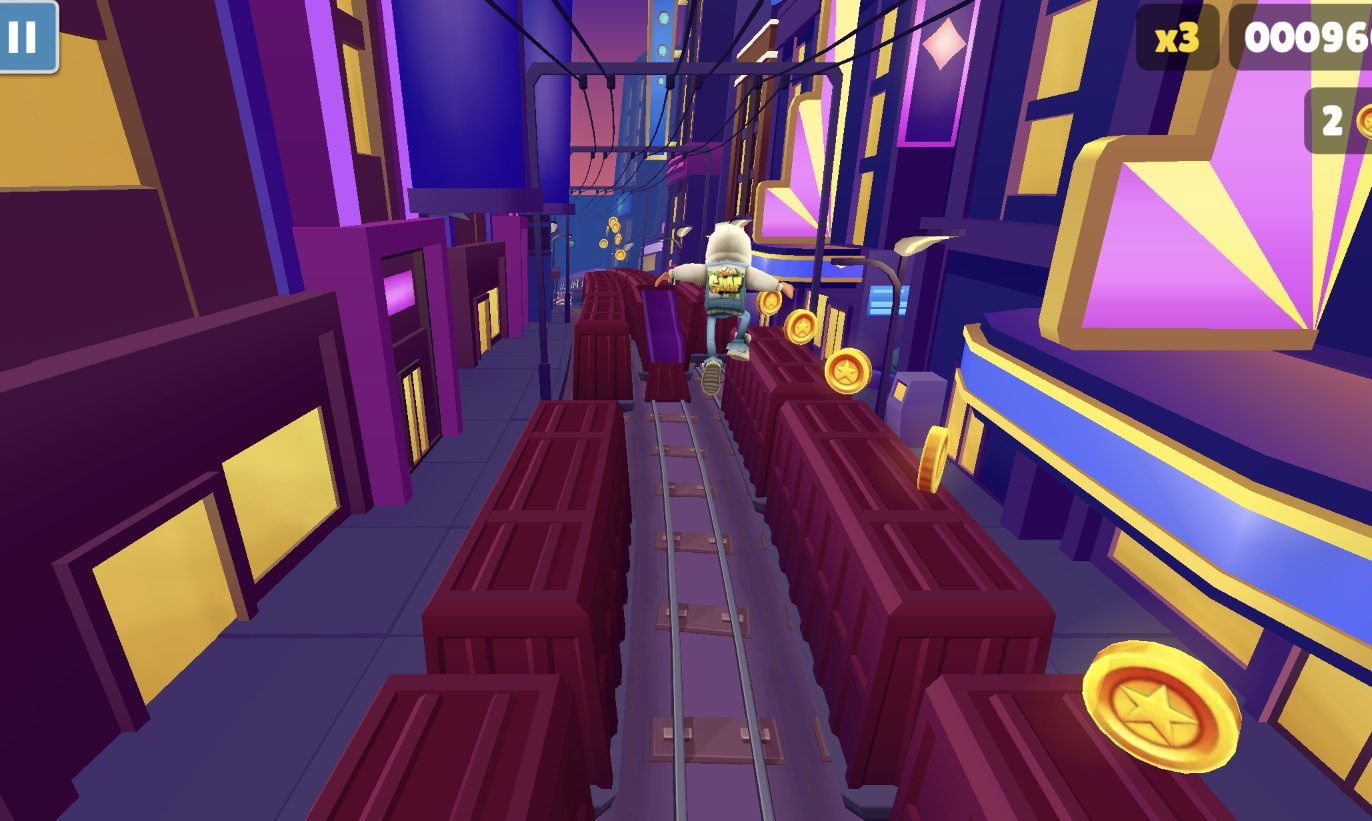train: (721, 330, 1236, 821), (311, 401, 636, 821), (571, 273, 641, 416), (634, 271, 705, 407)
